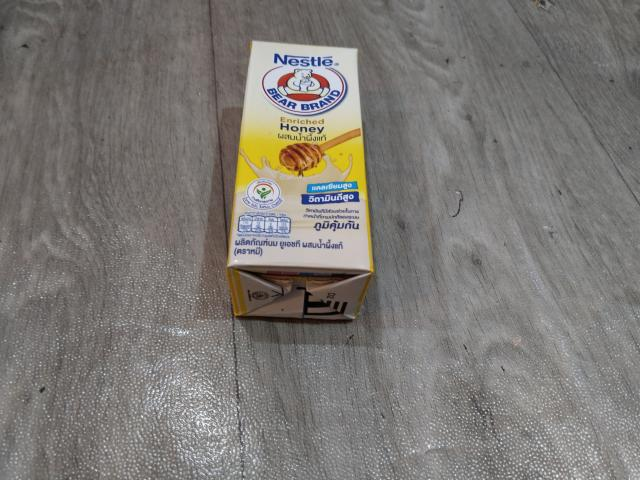drink_box: (233, 34, 371, 325)
